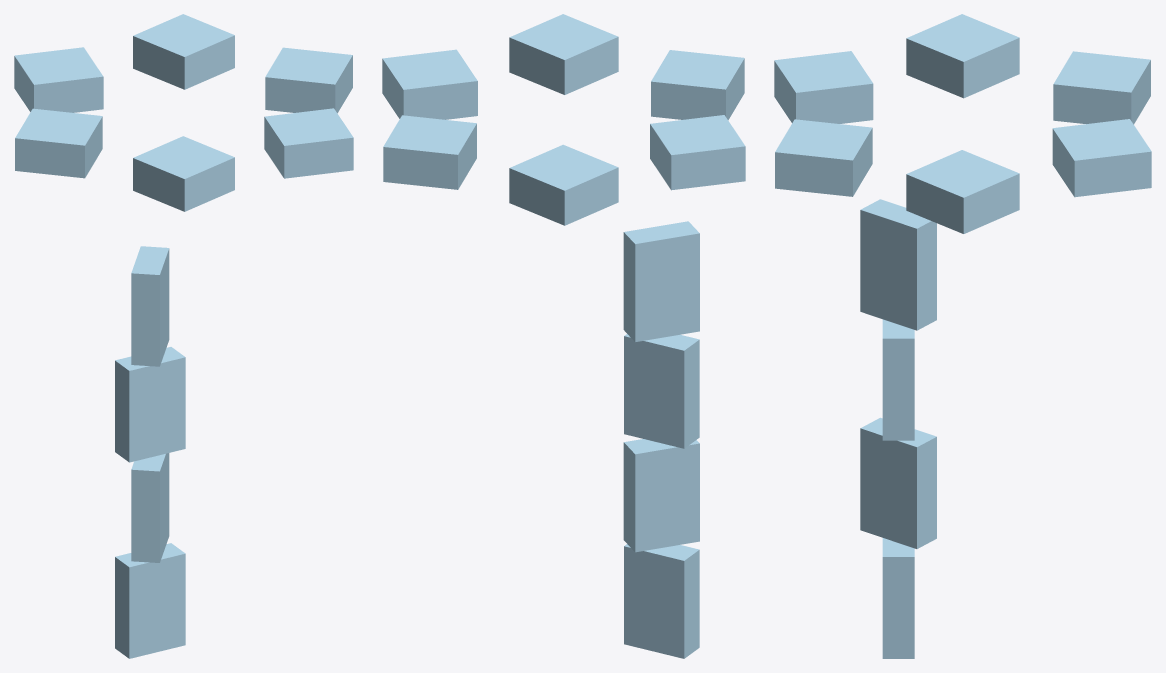
Rendered from hero_chain_wrap.glb.
3 renders of one model, left to right at view 1: azimuth 30°, elevation 25°; view 2: azimuth 150°, elevation 25°; view 3: azimuth 270°, elevation 25°, orthographic. The views are drawn at different scales.
Visible parts, largest first — view 1: hero_chain_wrap; view 2: hero_chain_wrap; view 3: hero_chain_wrap.
Part boxes in pixels (x1=…): hero_chain_wrap: x1=14, y1=14, x2=353, y2=658; hero_chain_wrap: x1=382, y1=14, x2=745, y2=658; hero_chain_wrap: x1=774, y1=14, x2=1151, y2=658.
Bounding box in the file's own units: 0.2707 × 0.3925 × 0.235.
